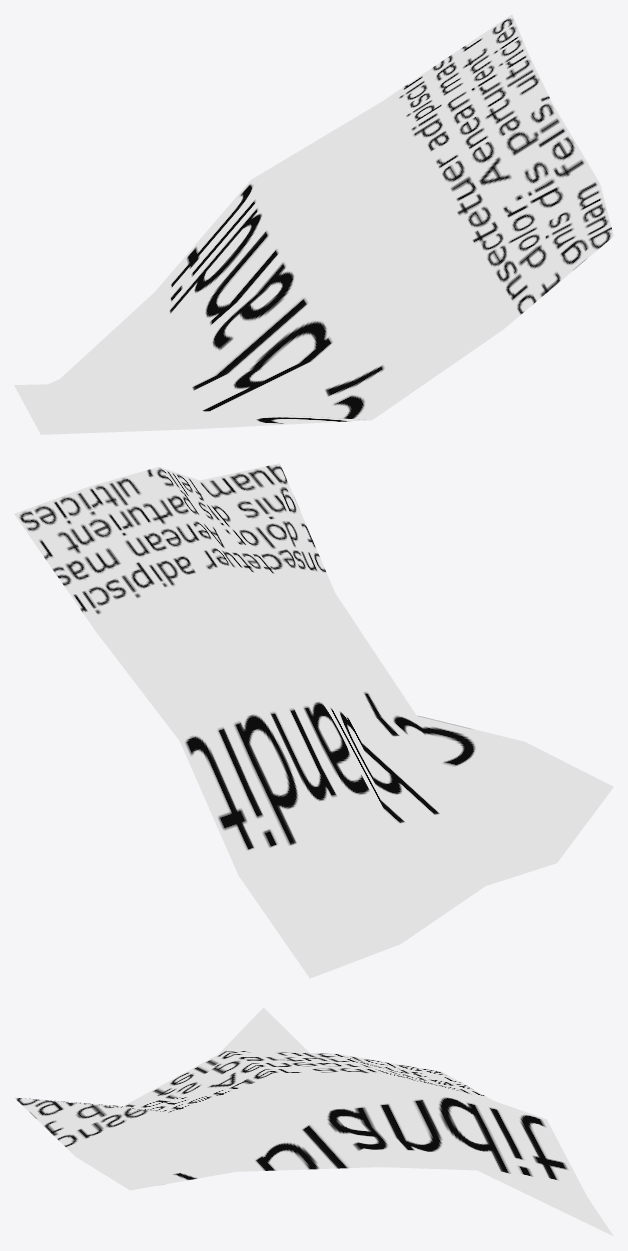
The picture shows the model from 3 angles, top to bottom: view 1: azimuth 30°, elevation 25°; view 2: azimuth 150°, elevation 25°; view 3: azimuth 270°, elevation 25°; orthographic projection. The views are drawn at different scales.
Visible parts, largest first — view 1: Plane.002; view 2: Plane.002; view 3: Plane.002.
Part boxes in pixels (bbox=[...]): Plane.002: bbox=[14, 14, 613, 434]; Plane.002: bbox=[14, 463, 613, 978]; Plane.002: bbox=[14, 1007, 613, 1235].
Bounding box in the file's own units: 0.6339 × 0.3724 × 0.5364.
Materials: 1 (1 with a texture image).
